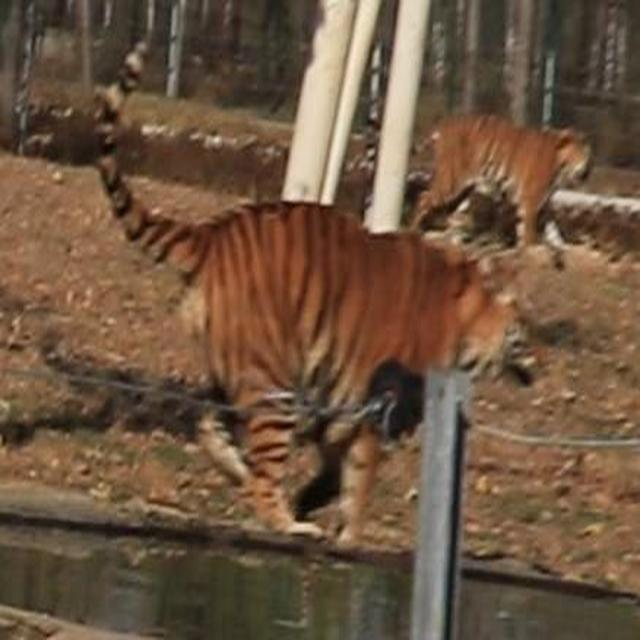tiger: (95, 32, 557, 554), (403, 97, 609, 253)
